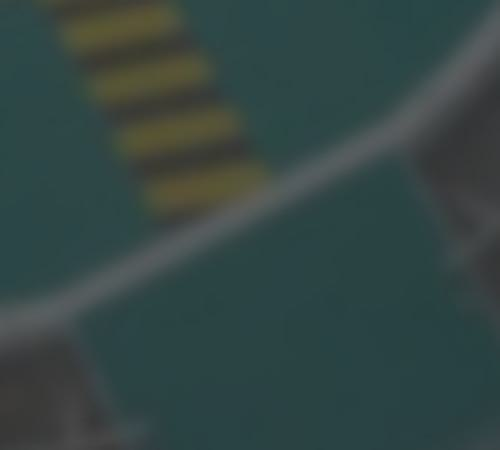Apron: (1, 2, 498, 345)
